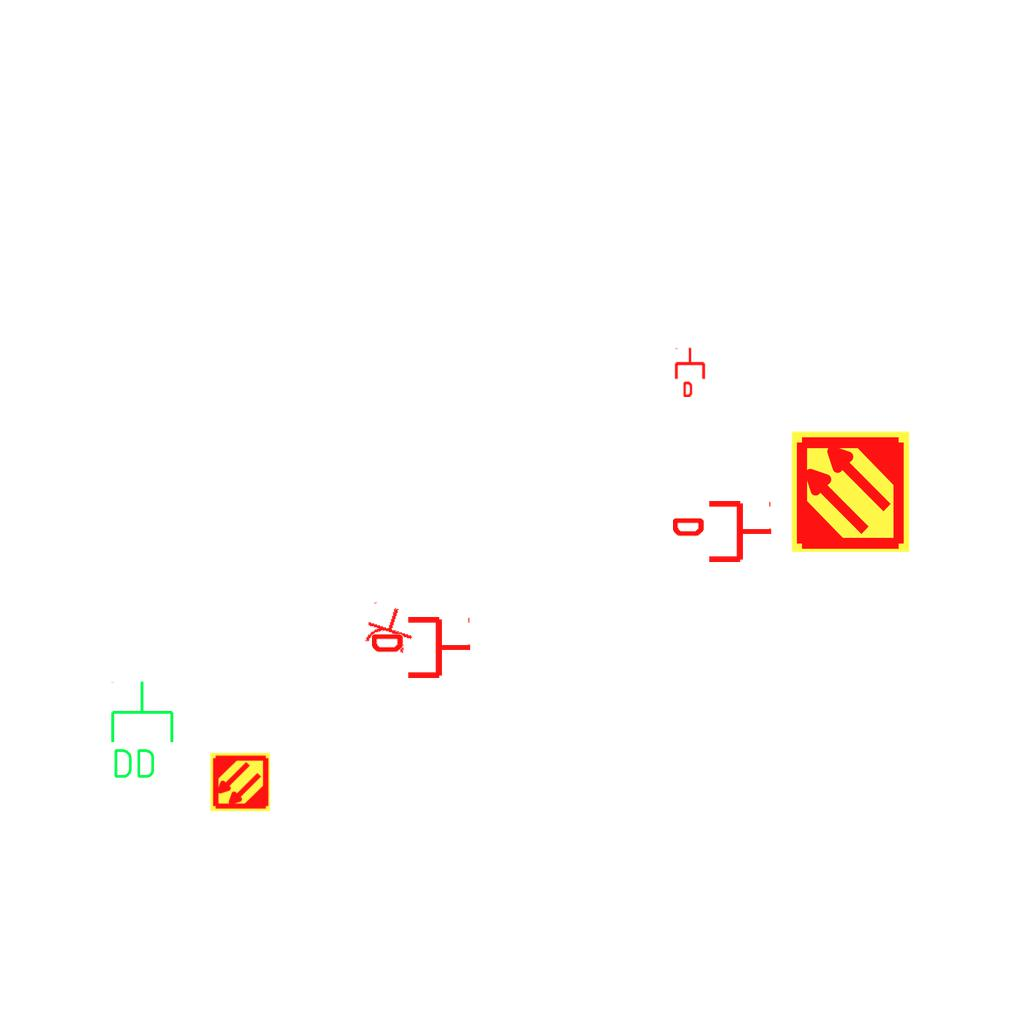ASR_Ansaugrauchmelder: (788, 429, 913, 554), (209, 751, 271, 813)
Datenanschluss_einfach: (673, 497, 773, 566), (372, 613, 472, 682), (673, 347, 707, 397)
Datenanschluss_zweifach: (107, 679, 176, 782)
Schukosteckdose_einfach: (359, 599, 420, 657)
